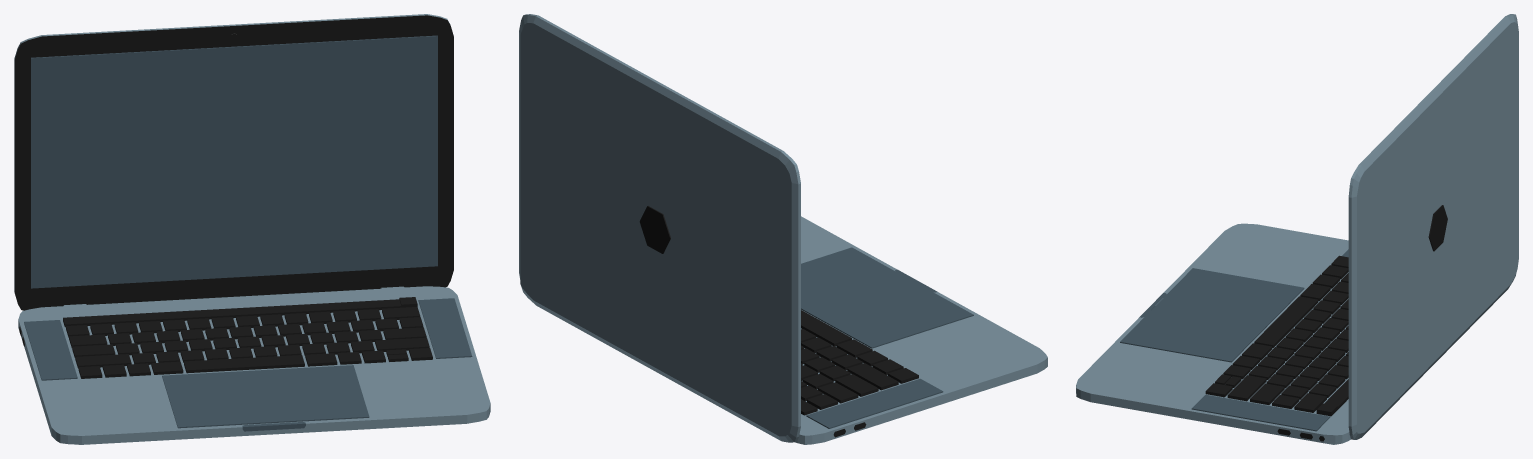
Rendered from Mac.glb.
3 views of the same model, side by side, from view 1: azimuth 30°, elevation 25°; view 2: azimuth 150°, elevation 25°; view 3: azimuth 270°, elevation 25° (orthographic). The views are drawn at different scales.
Parts seen in each view (by area): view 1: mac_top, mac_bottom; view 2: mac_top, mac_bottom; view 3: mac_top, mac_bottom.
Boxes of the visible parts, left/top/right/bottom form: mac_top: left=14, top=14, right=453, bottom=310; mac_bottom: left=18, top=286, right=490, bottom=444; mac_top: left=519, top=14, right=800, bottom=442; mac_bottom: left=795, top=216, right=1047, bottom=444; mac_top: left=1348, top=14, right=1518, bottom=439; mac_bottom: left=1076, top=223, right=1350, bottom=444.
Size of the model in its own units: 0.4787 by 0.2895 by 0.4149.
